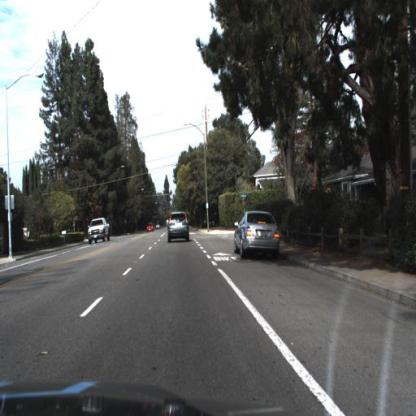car: (232, 210, 281, 259), (167, 209, 192, 245), (88, 215, 110, 246), (148, 224, 155, 233)
